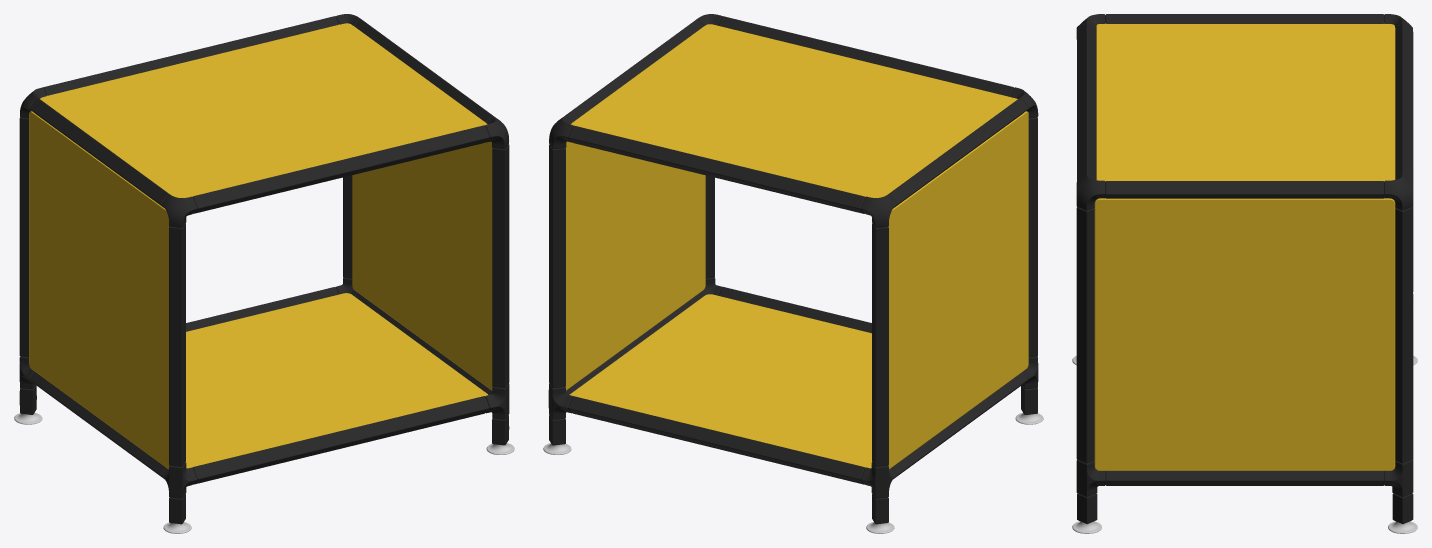
3 views of the same model, side by side, from view 1: azimuth 30°, elevation 25°; view 2: azimuth 150°, elevation 25°; view 3: azimuth 270°, elevation 25° (orthographic). The views are drawn at different scales.
Visible parts, largest first — view 1: 479x374x374; view 2: 479x374x374; view 3: 479x374x374.
Boxes of the visible parts, x1,y1,x2,y2 form: 479x374x374: (14, 14, 514, 533); 479x374x374: (543, 14, 1043, 533); 479x374x374: (1072, 14, 1417, 533).
Bounding box in the file's own units: 0.5689 × 0.5132 × 0.4633.
